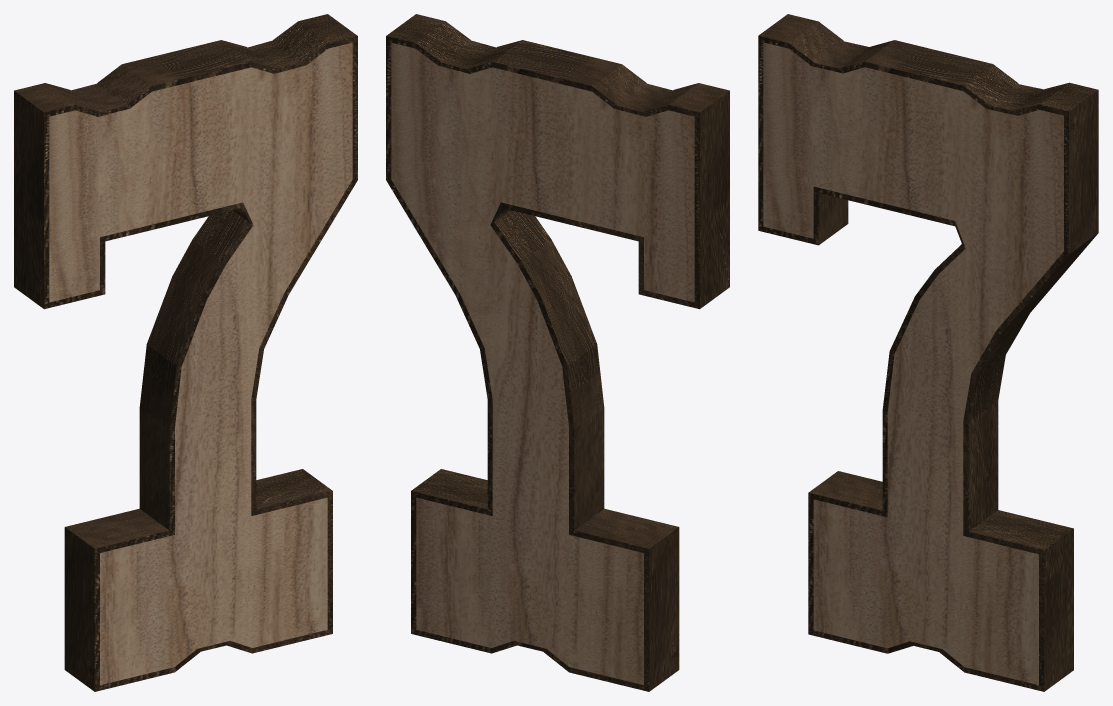
3 renders of one model, left to right at view 1: azimuth 30°, elevation 25°; view 2: azimuth 150°, elevation 25°; view 3: azimuth 330°, elevation 25°, orthographic.
Parts seen in each view (by area): view 1: 7, 7_outline; view 2: 7, 7_outline; view 3: 7, 7_outline.
Part boxes in pixels (x1,y1,x2,y2): 7: (49,42,352,685); 7_outline: (14,14,357,691); 7: (391,42,694,685); 7_outline: (386,14,729,691); 7: (763,42,1063,685); 7_outline: (758,14,1098,691).
Bounding box in the file's own units: 60.35 × 109 × 10.
2 materials, 2 textured.
